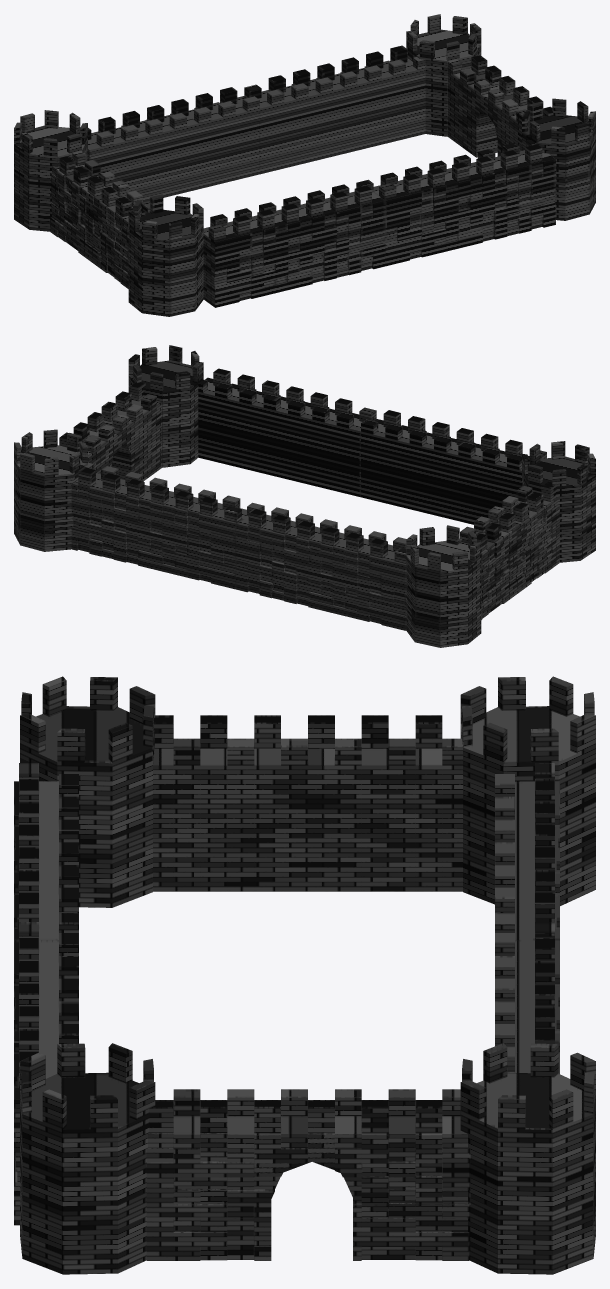
The model's file is Castle.glb.
The picture shows the model from 3 angles, top to bottom: view 1: azimuth 30°, elevation 25°; view 2: azimuth 150°, elevation 25°; view 3: azimuth 270°, elevation 25°; orthographic projection. The views are drawn at different scales.
Parts seen in each view (by area): view 1: Castle; view 2: Castle; view 3: Castle.
Boxes of the visible parts, x1,y1,x2,y2 form: Castle: (14, 14, 595, 316); Castle: (14, 345, 595, 647); Castle: (14, 676, 595, 1274).
Size of the model in its own units: 24.59 by 4.72 by 14.27.
Materials: 1 (1 with a texture image).
